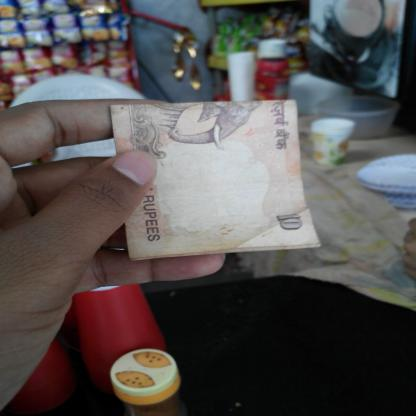Old10Back: (108, 99, 322, 262)
